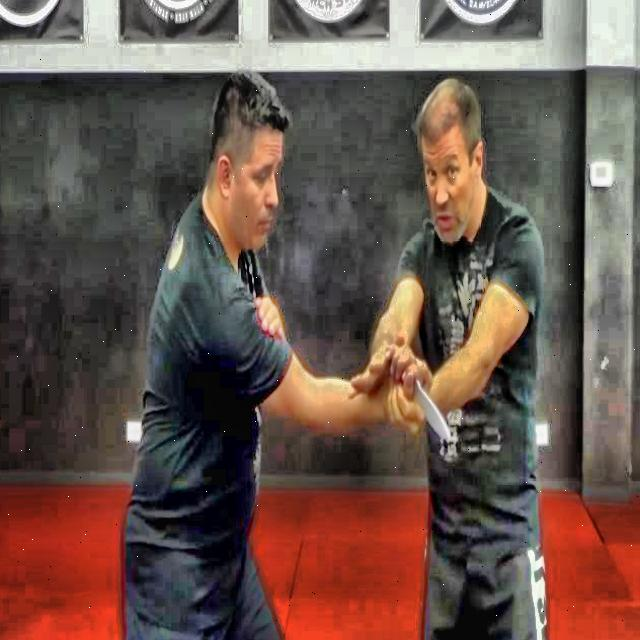knife: (414, 382, 451, 443)
